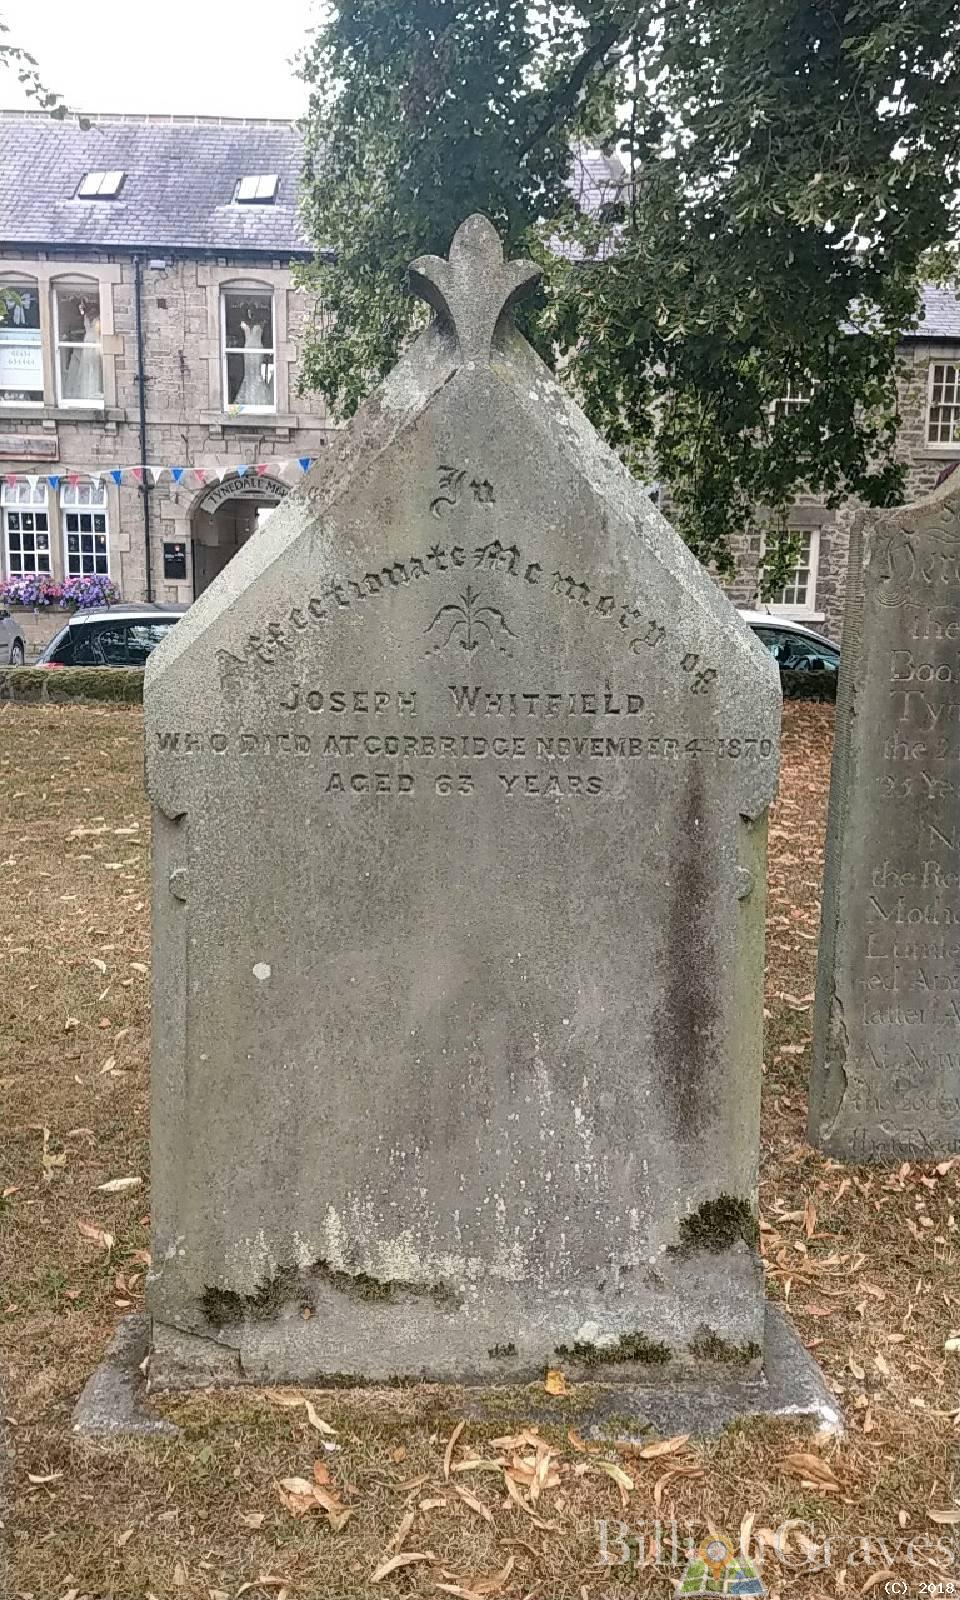upright: (97, 183, 880, 1501)
